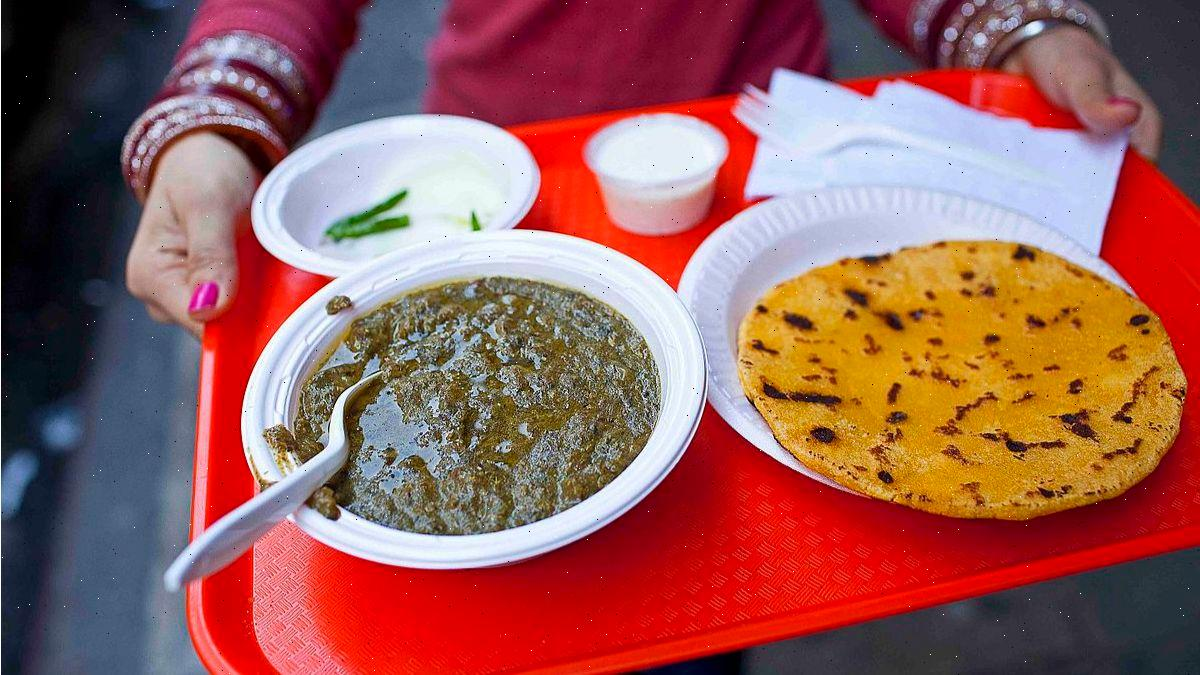saag: (284, 275, 670, 541)
